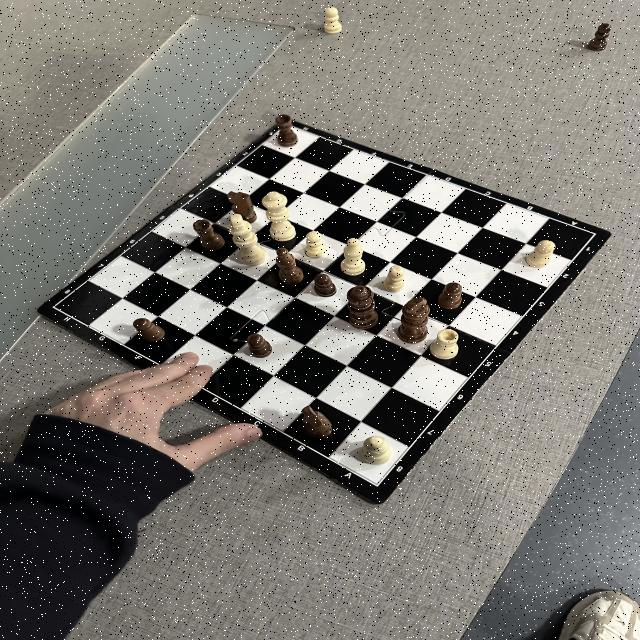Black-Bishop: (275, 247, 303, 285)
Black-King: (397, 296, 431, 344)
Black-Knight: (302, 404, 334, 438), (227, 190, 257, 223)
Black-Pawn: (133, 318, 166, 342), (437, 282, 463, 310), (247, 332, 273, 358), (588, 23, 612, 51), (314, 274, 338, 298)
Black-Queen: (347, 284, 380, 330)
Black-Rook: (193, 220, 226, 252), (276, 114, 298, 148)
White-Bishop: (340, 238, 366, 276), (360, 436, 392, 466)
White-King: (227, 214, 268, 266)
White-Pawn: (526, 240, 556, 268), (306, 231, 328, 257), (384, 265, 404, 292), (323, 7, 342, 34)
White-Queen: (261, 192, 297, 242)
White-Rook: (429, 329, 459, 360)
